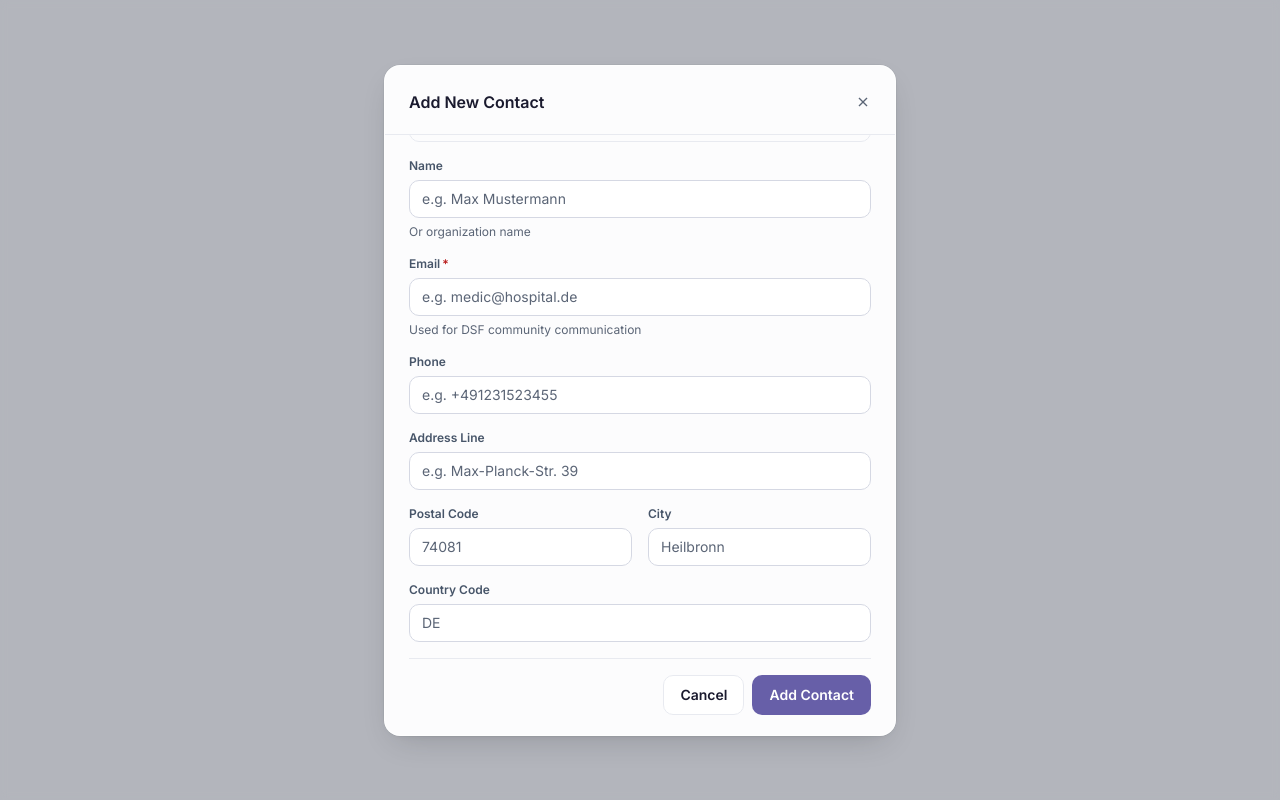
Test case: ContactModal open/close › shows a validation error when submitting empty
(page scrolled)
What coordinates should you click on to do the following:
click the button "Add Contact"
I would click on:
 (812, 694)
Its box is [752,674,871,714].
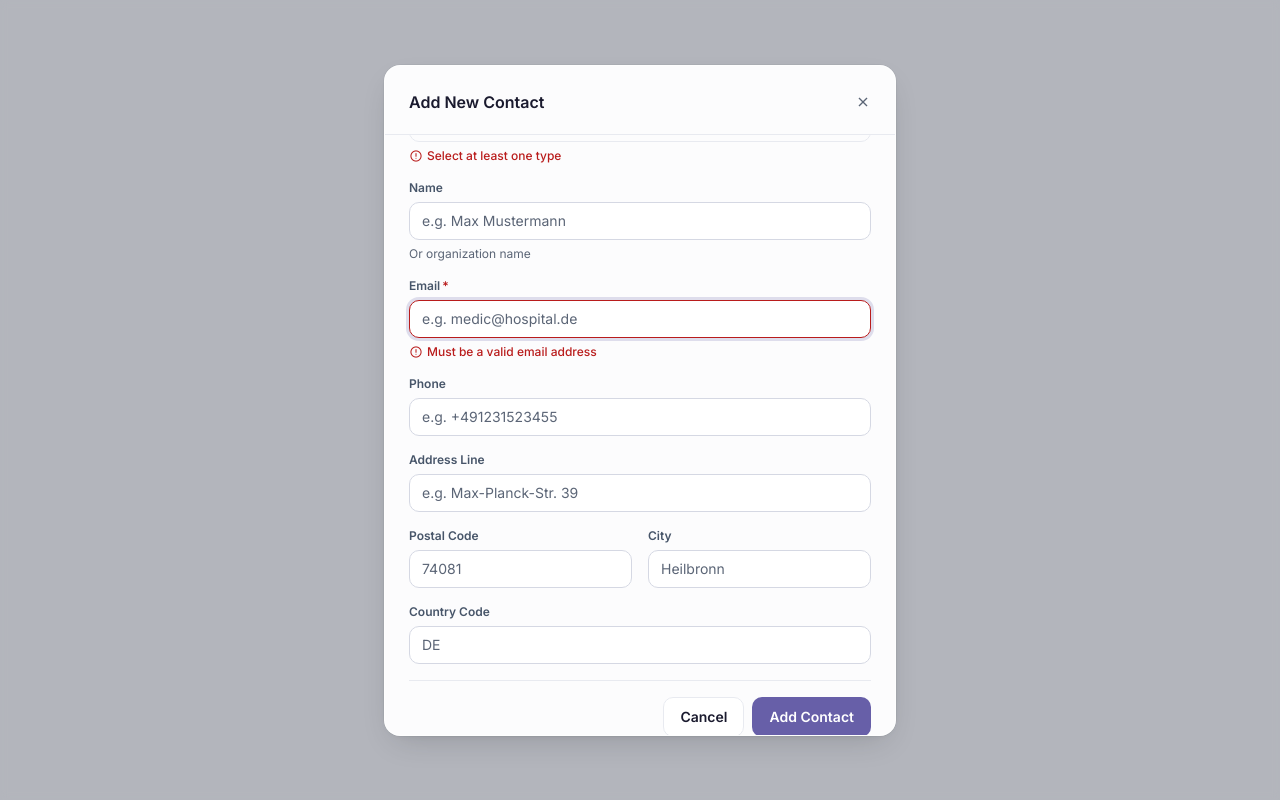
Check: the text "Select at least one type" is shown, box [427,148,561,164]
